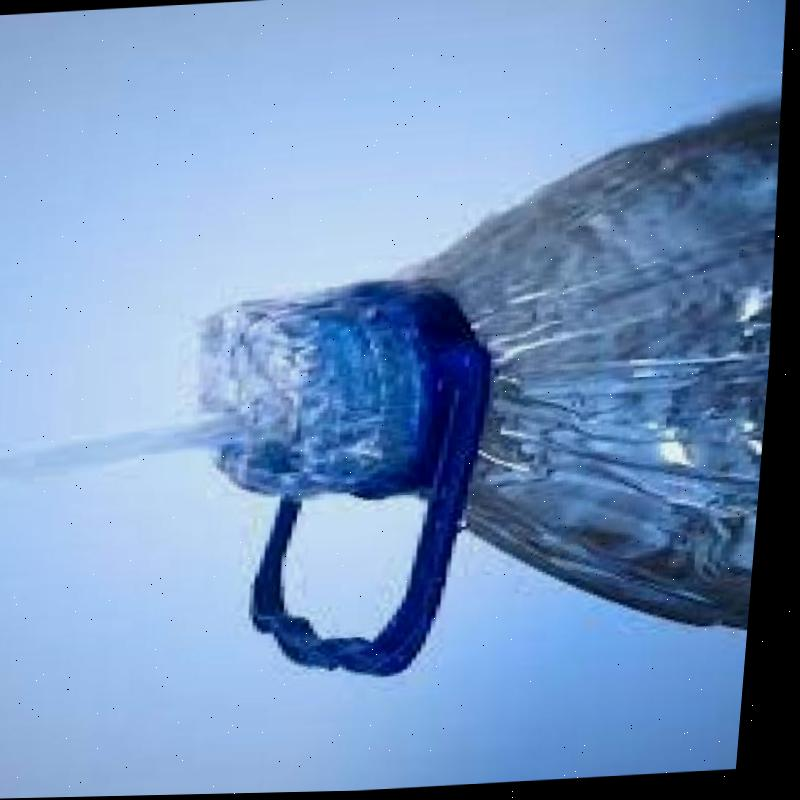botella: (204, 101, 793, 665)
